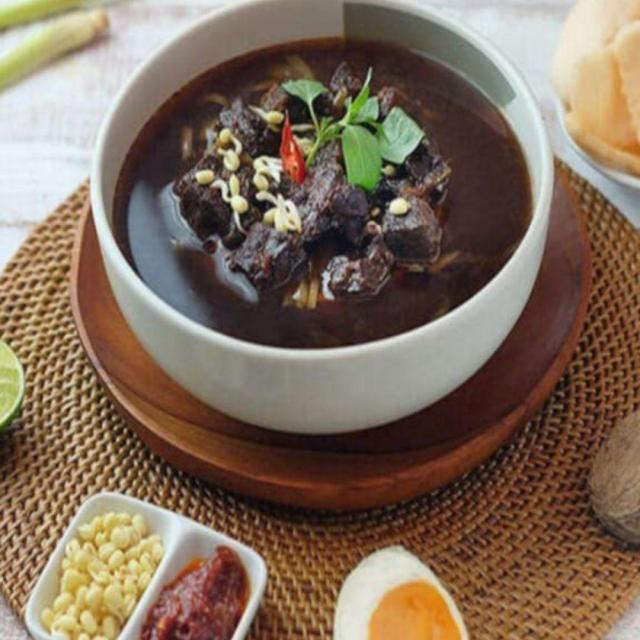Rawon: (119, 40, 522, 334)
